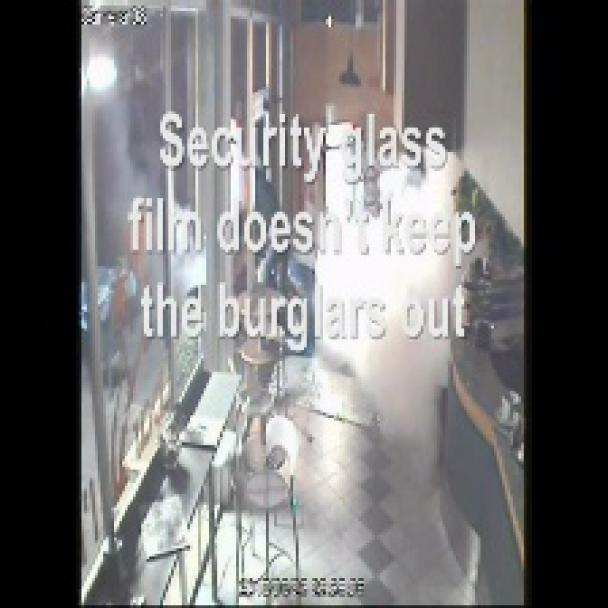smoke: (305, 113, 476, 423)
